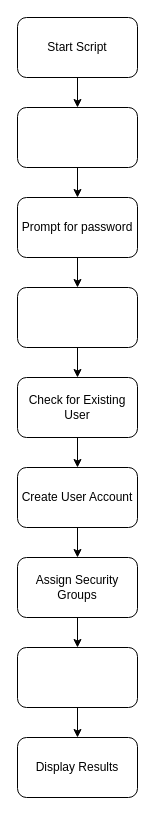
This 155x815 diagram has some shape labels left out. Each missing label, with the centre of its shape:
"Confirm for password" belongs at pixel 77 317.
"Validation Configuration" belongs at pixel 77 677.
"Verify Administrator Rights" belongs at pixel 77 137.
